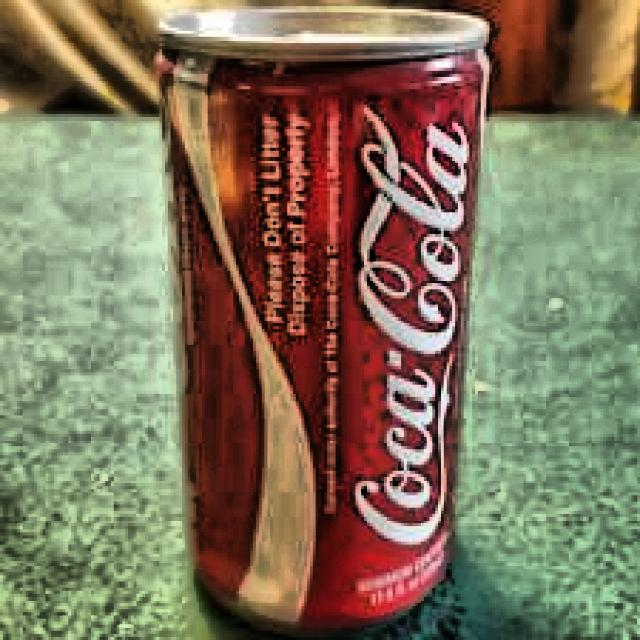Cans: (126, 0, 503, 640)
